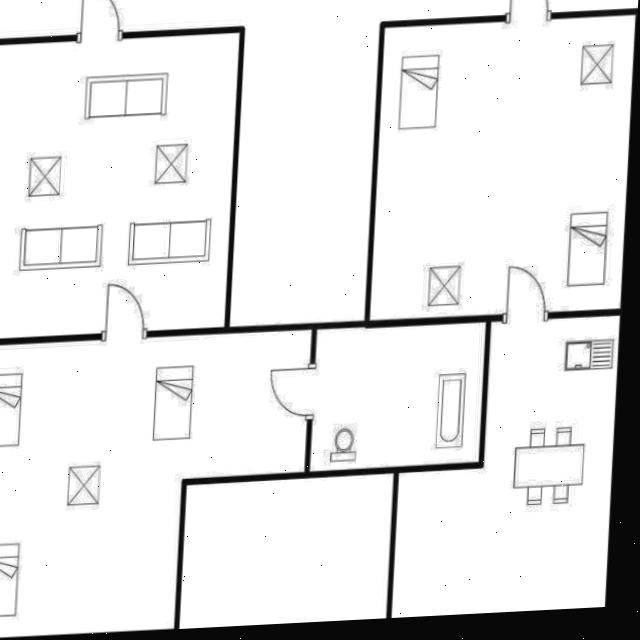room: (0, 328, 327, 638), (370, 3, 637, 333), (392, 303, 621, 629), (0, 33, 240, 338), (303, 322, 493, 471)
